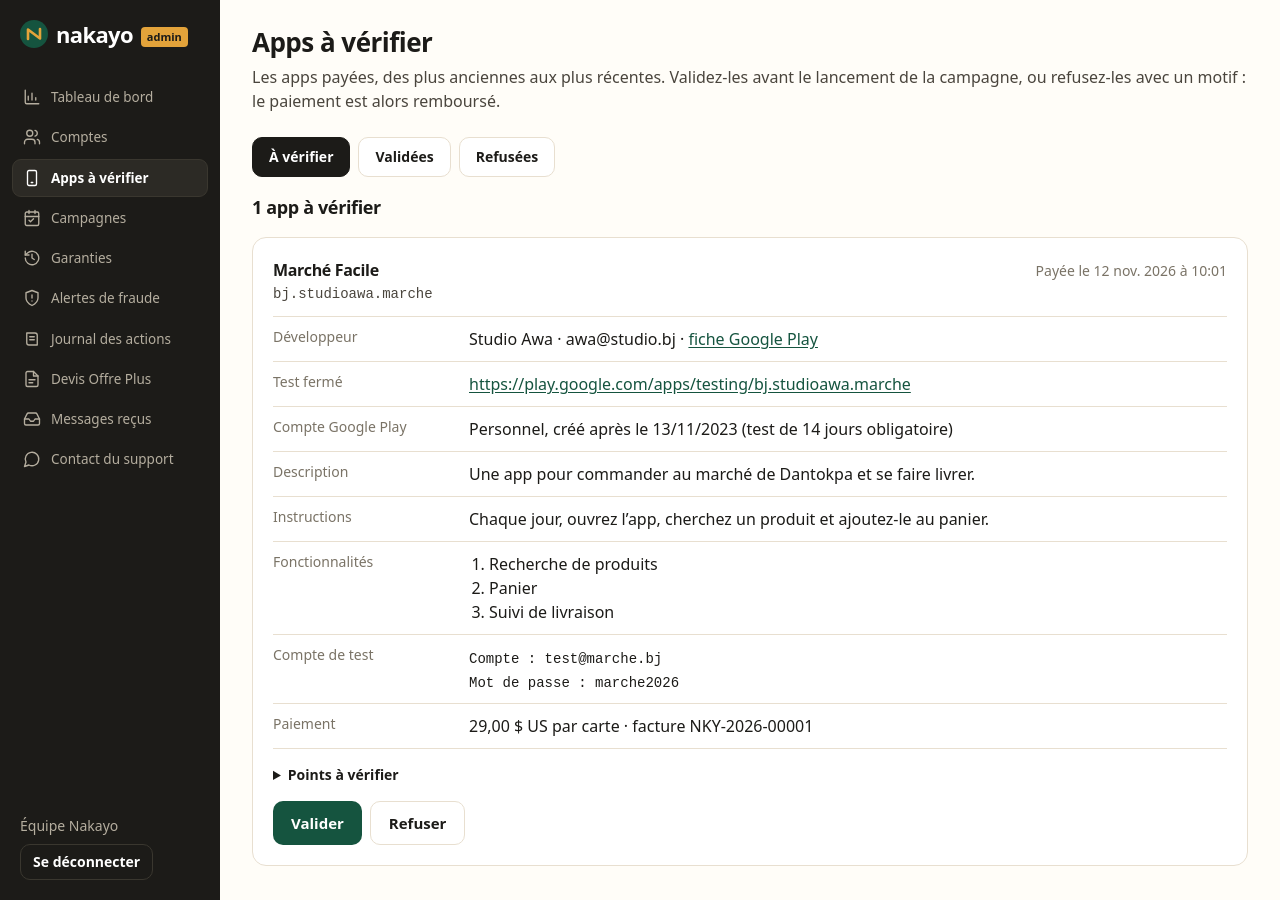
it: Apps à vérifier (US-14) › une app déjà traitée par un autre admin est retirée avec un message
Click the button with aria-label "Valider Marché Facile" at {"x": 317, "y": 823}, box [273,801,362,845]
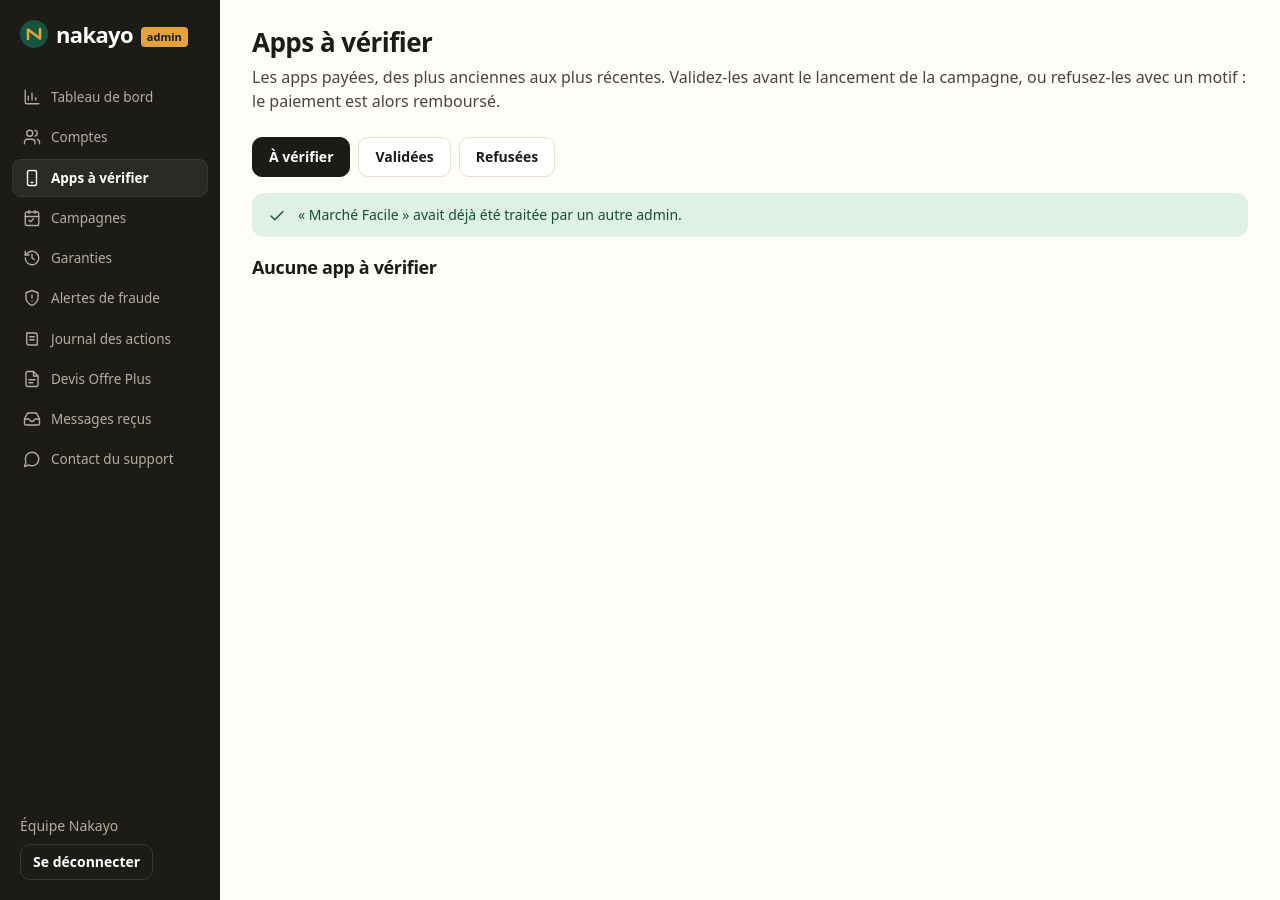
Check: the text "« Marché Facile » avait déjà été traitée par un autre admin." is shown, box [298,205,682,225]
